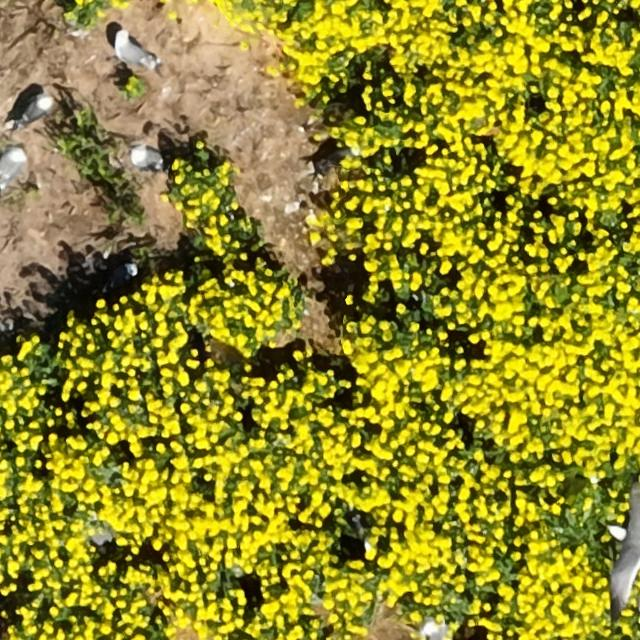F: (611, 494, 640, 610)
umineko: (116, 36, 150, 67), (20, 94, 50, 123), (106, 262, 137, 288), (1, 150, 24, 184), (129, 148, 161, 170), (422, 618, 448, 640)
